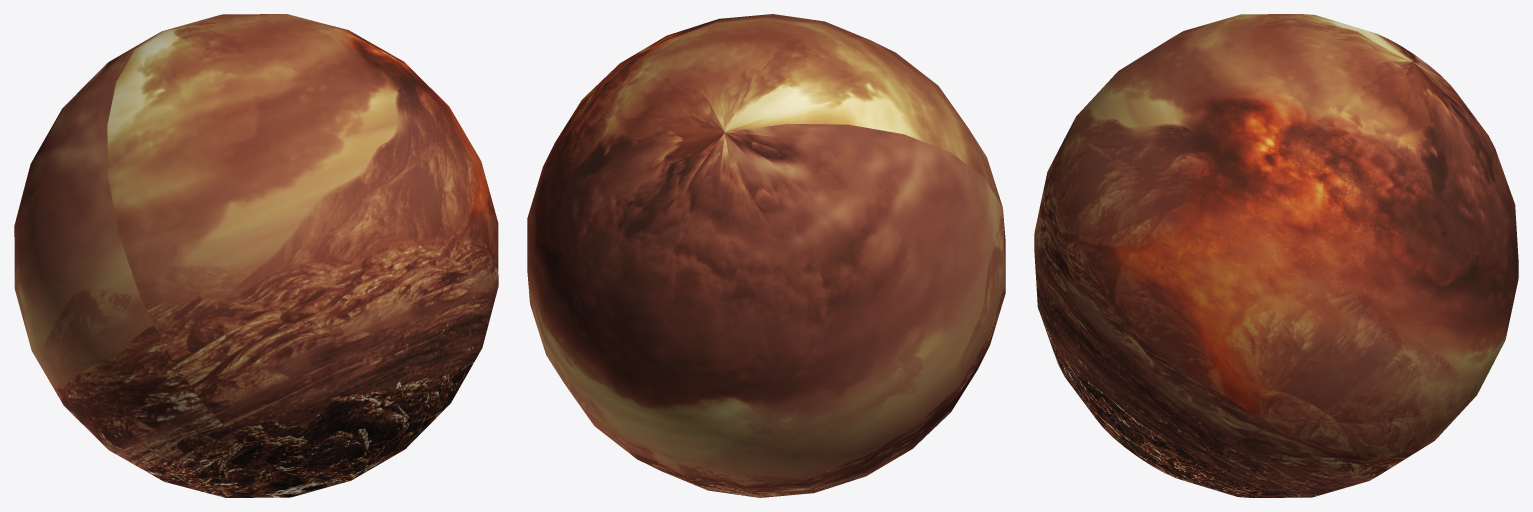
File: venus.fbx
3 renders of one model, left to right at view 1: azimuth 30°, elevation 25°; view 2: azimuth 150°, elevation 25°; view 3: azimuth 270°, elevation 25°, orthographic.
Visible parts, largest first — view 1: Sphere; view 2: Sphere; view 3: Sphere.
Boxes of the visible parts, x1,y1,x2,y2 form: Sphere: [14, 14, 498, 497]; Sphere: [527, 14, 1005, 497]; Sphere: [1034, 14, 1518, 497].
Size of the model in its own units: 198 by 199 by 198.
1 material, 1 textured.
